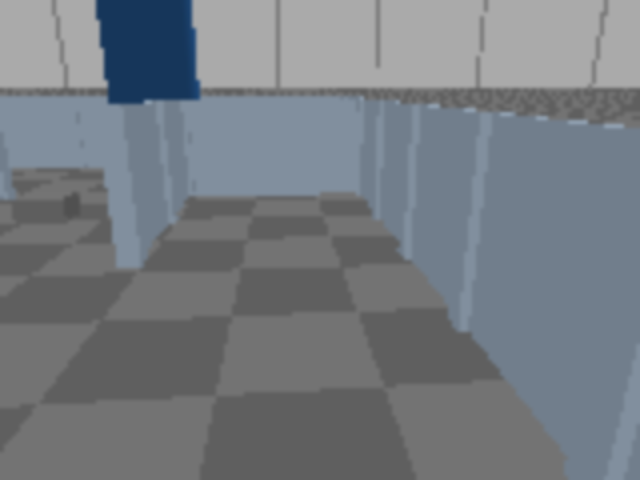obstacle: (10, 192, 81, 223)
